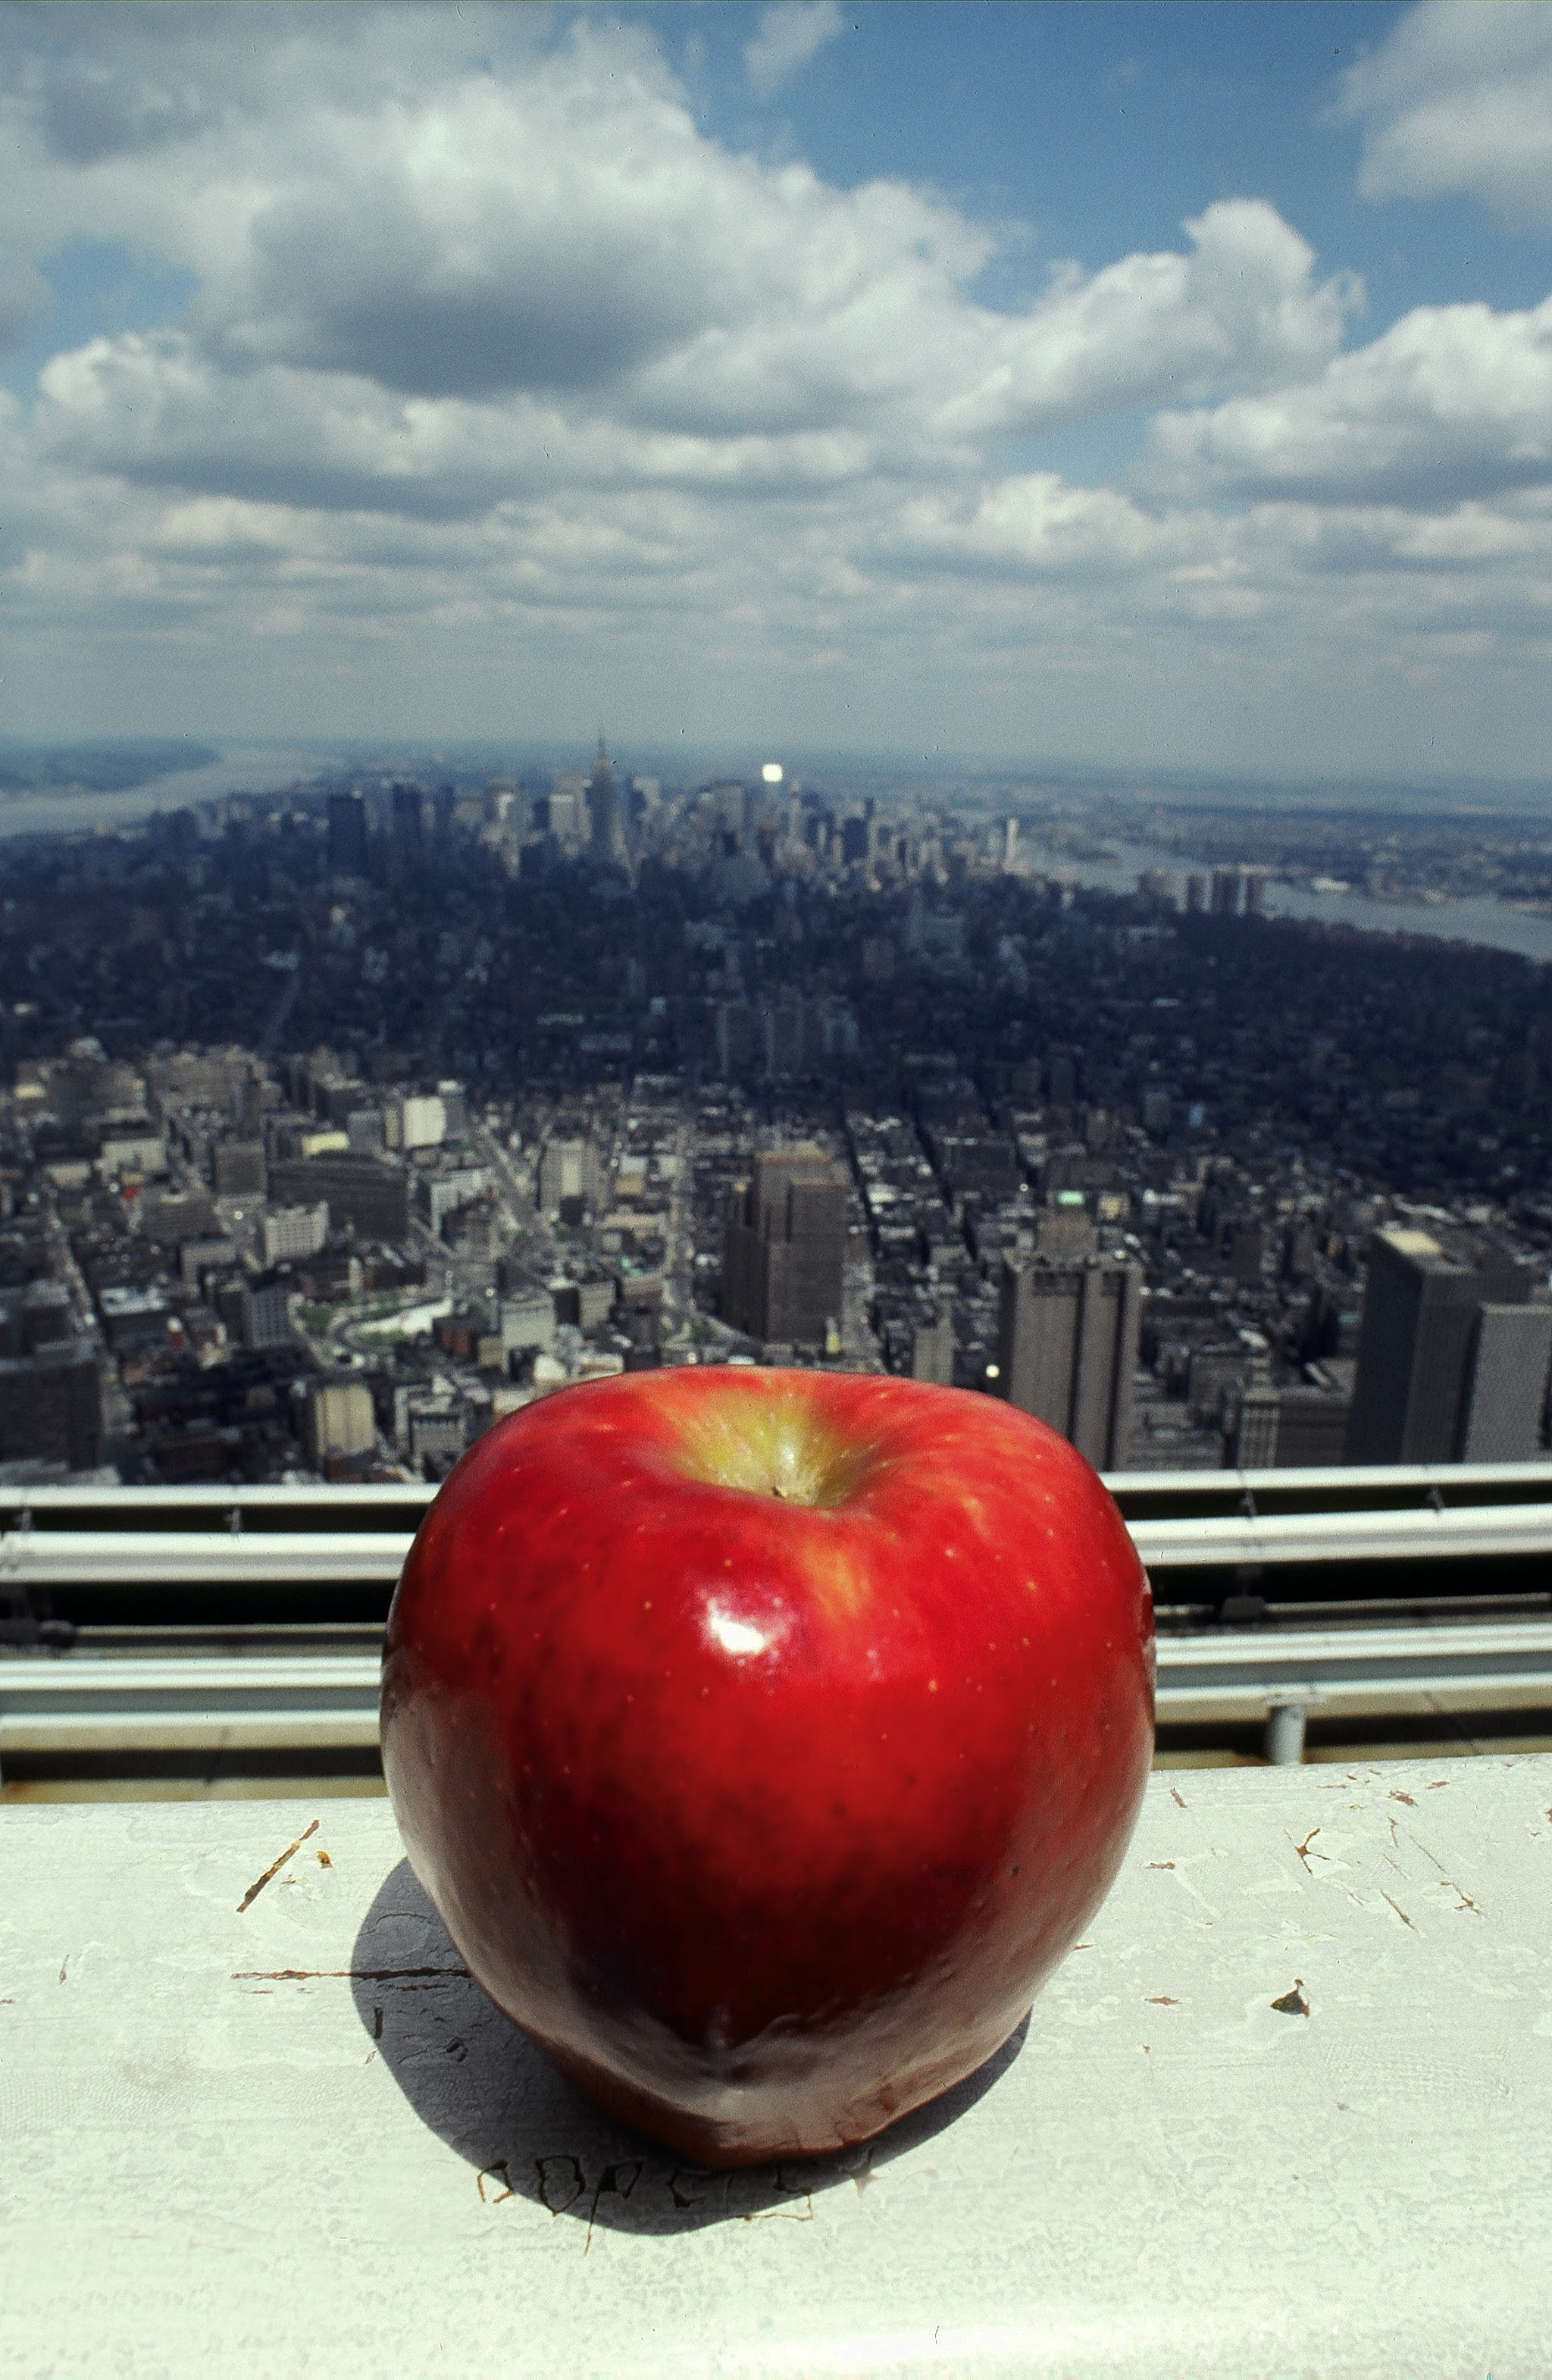apple: (380, 1353, 1162, 2175)
